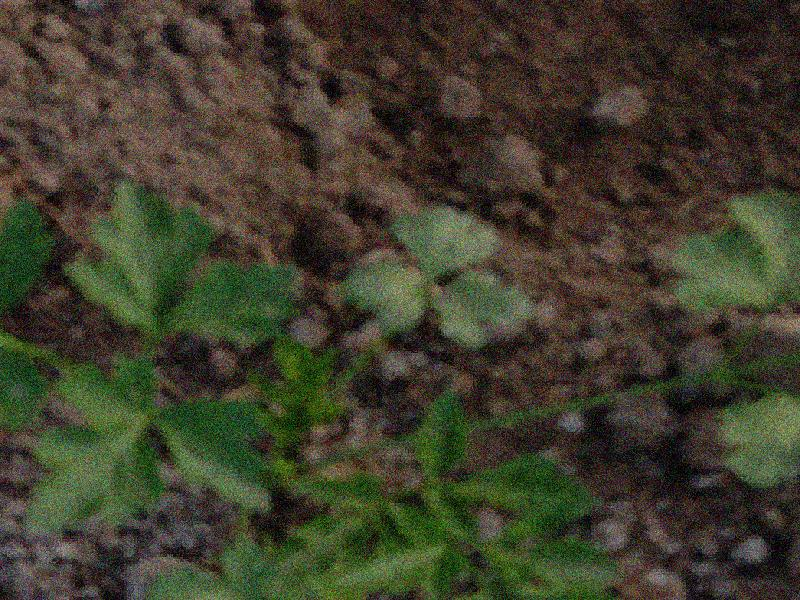radish: (0, 45, 769, 600)
